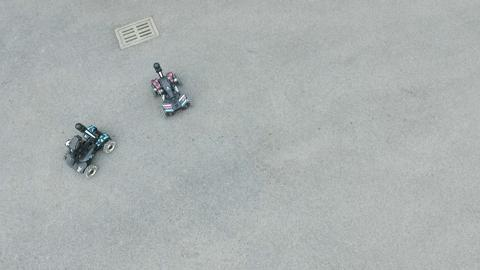chariot: (64, 120, 115, 177), (148, 60, 191, 118)
